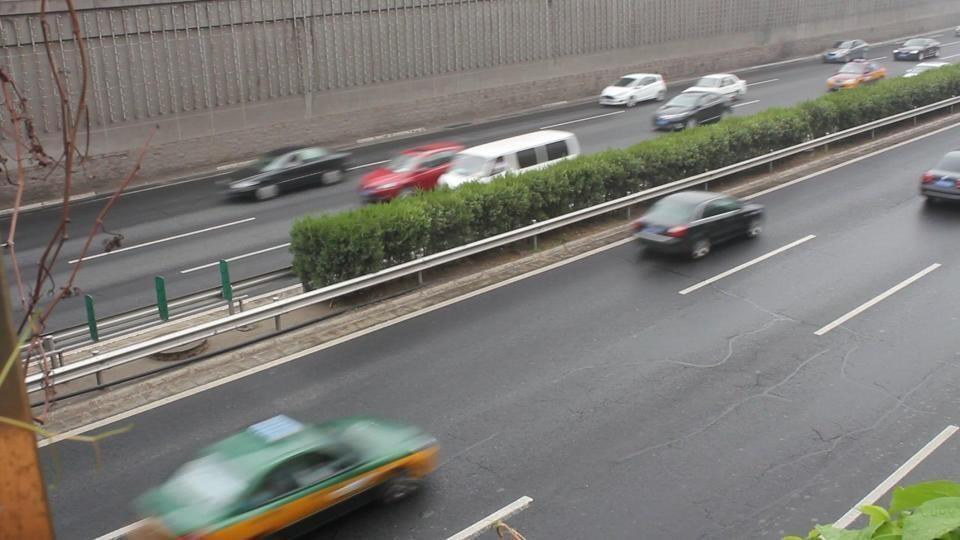car: (120, 411, 442, 539), (632, 189, 767, 260), (436, 129, 581, 194), (218, 145, 351, 203), (356, 142, 466, 205), (598, 79, 733, 122), (652, 88, 734, 132), (599, 73, 668, 108), (918, 150, 960, 206), (825, 60, 887, 91), (691, 73, 747, 102), (893, 36, 942, 62), (822, 39, 869, 64)
